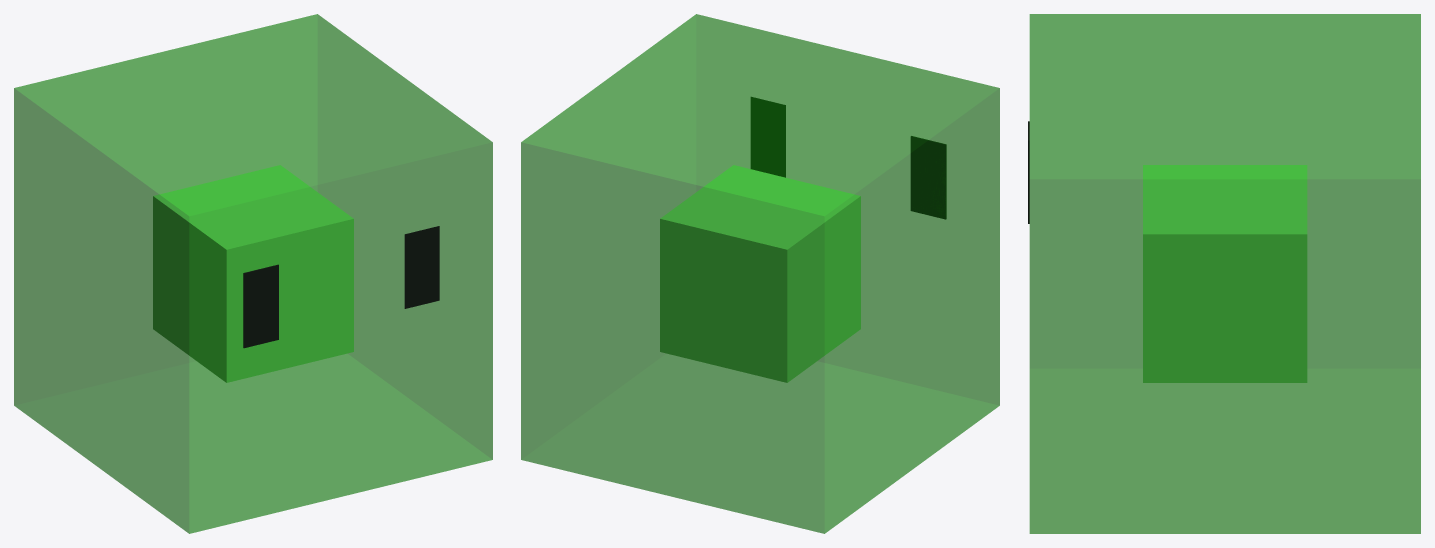
Rendered from jugador.fbx.
The picture shows the model from 3 angles, left to right: view 1: azimuth 30°, elevation 25°; view 2: azimuth 150°, elevation 25°; view 3: azimuth 270°, elevation 25°; orthographic projection. The views are drawn at different scales.
Visible parts, largest first — view 1: Cube; view 2: Cube; view 3: Cube.
Part boxes in pixels (x1,y1,x2,y2): Cube: (14, 14, 492, 533); Cube: (521, 14, 999, 533); Cube: (1028, 14, 1420, 533).
Size of the model in its own units: 268 by 268 by 269.
